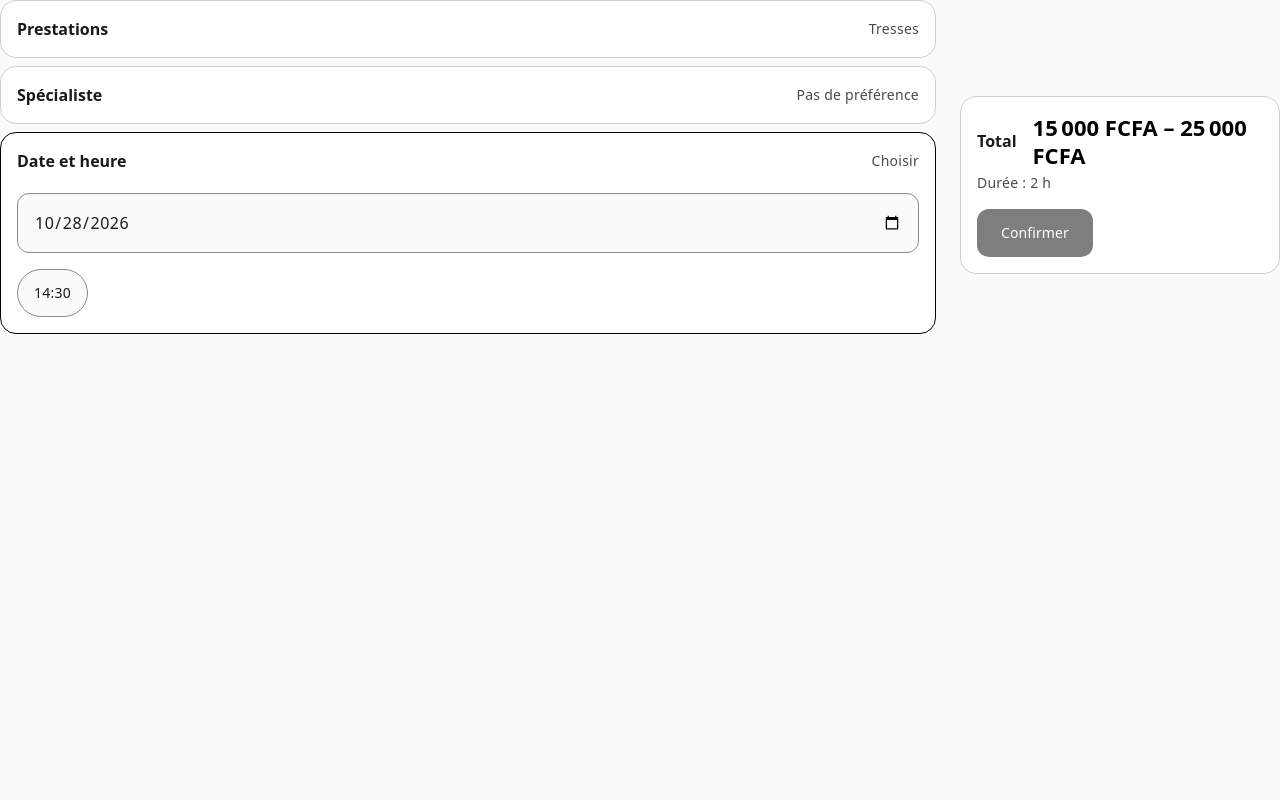
Test: « Réserver » — the contact phone at the confirm step › no number yet: asks for one, under the field — nothing is sent
The width and height of the screenshot is (1280, 800).
Click the button "14:30".
click(52, 293)  # box [17, 269, 88, 317]
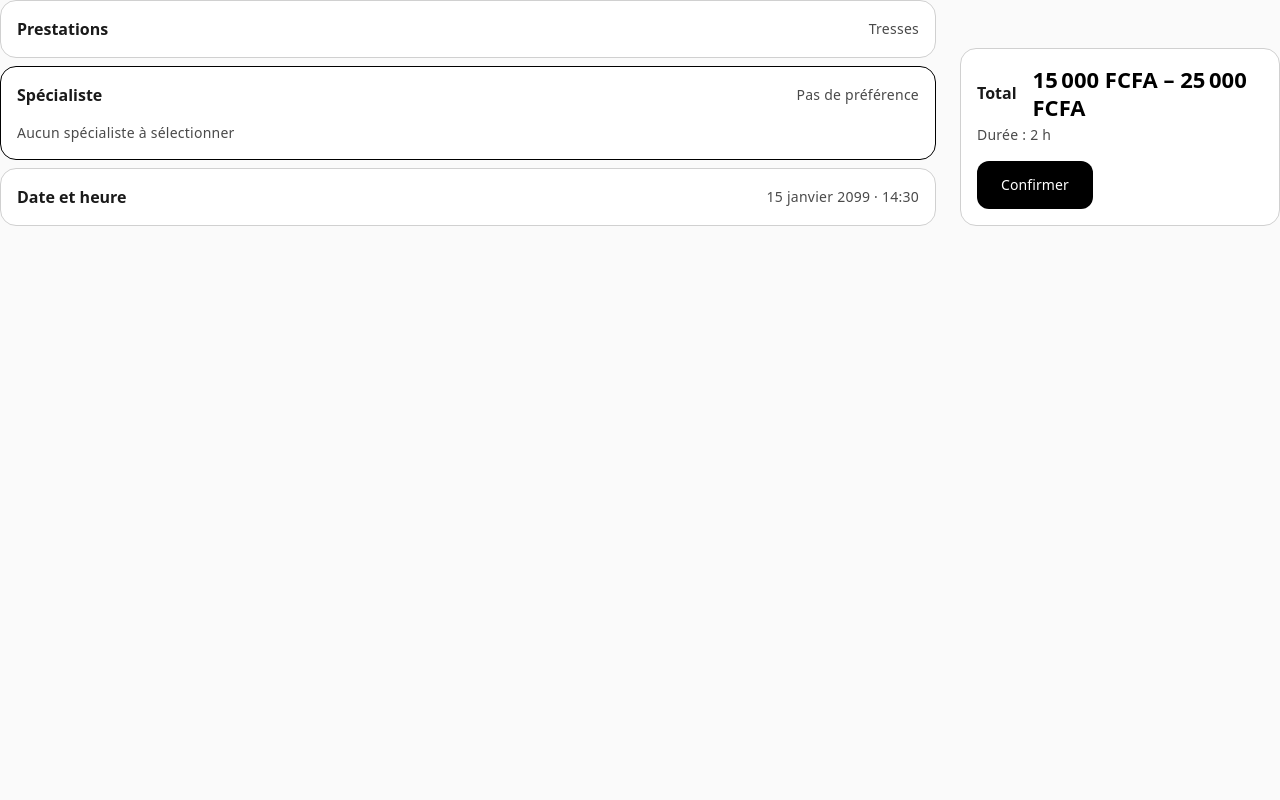
Click the button "Confirmer".
click(1035, 185)  # box [977, 161, 1093, 209]
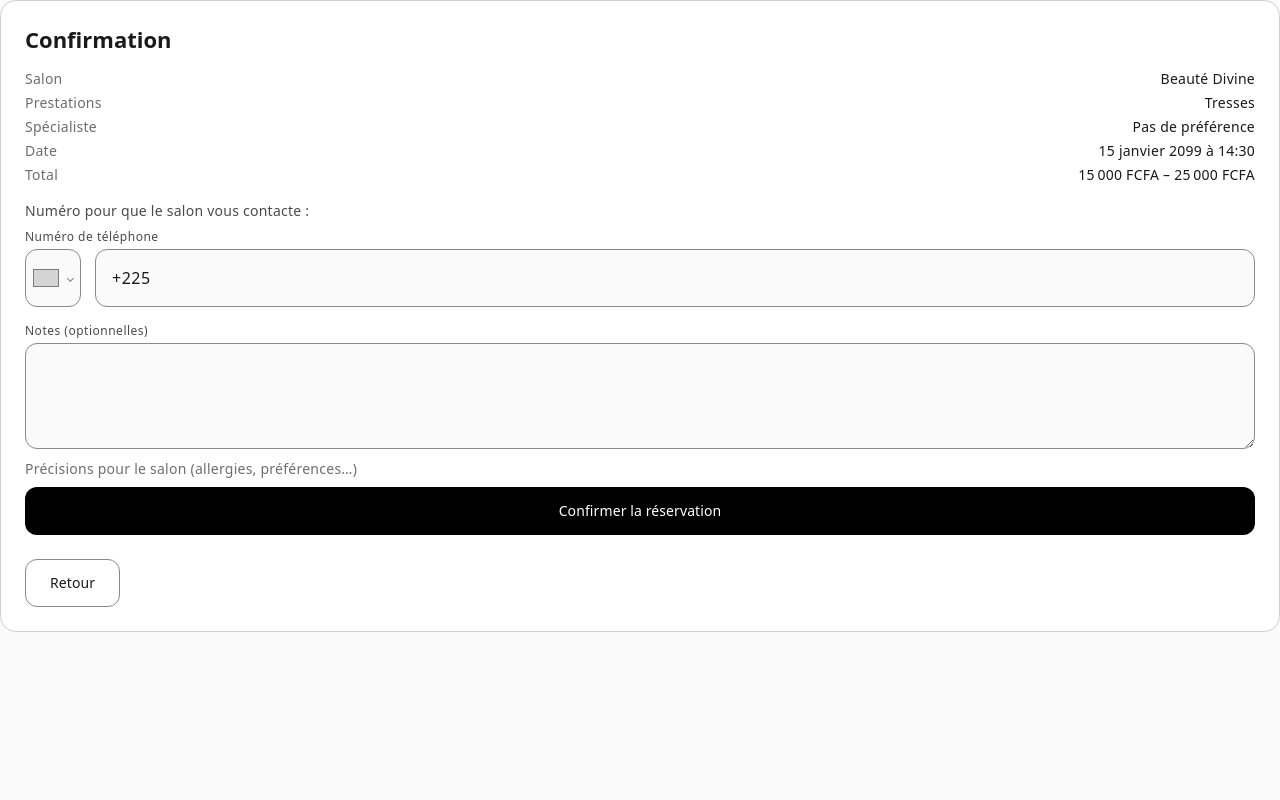
Check: the button "Confirmer la réservation" is enabled
Click the button "Confirmer la réservation".
click(640, 511)  # box [25, 487, 1255, 535]
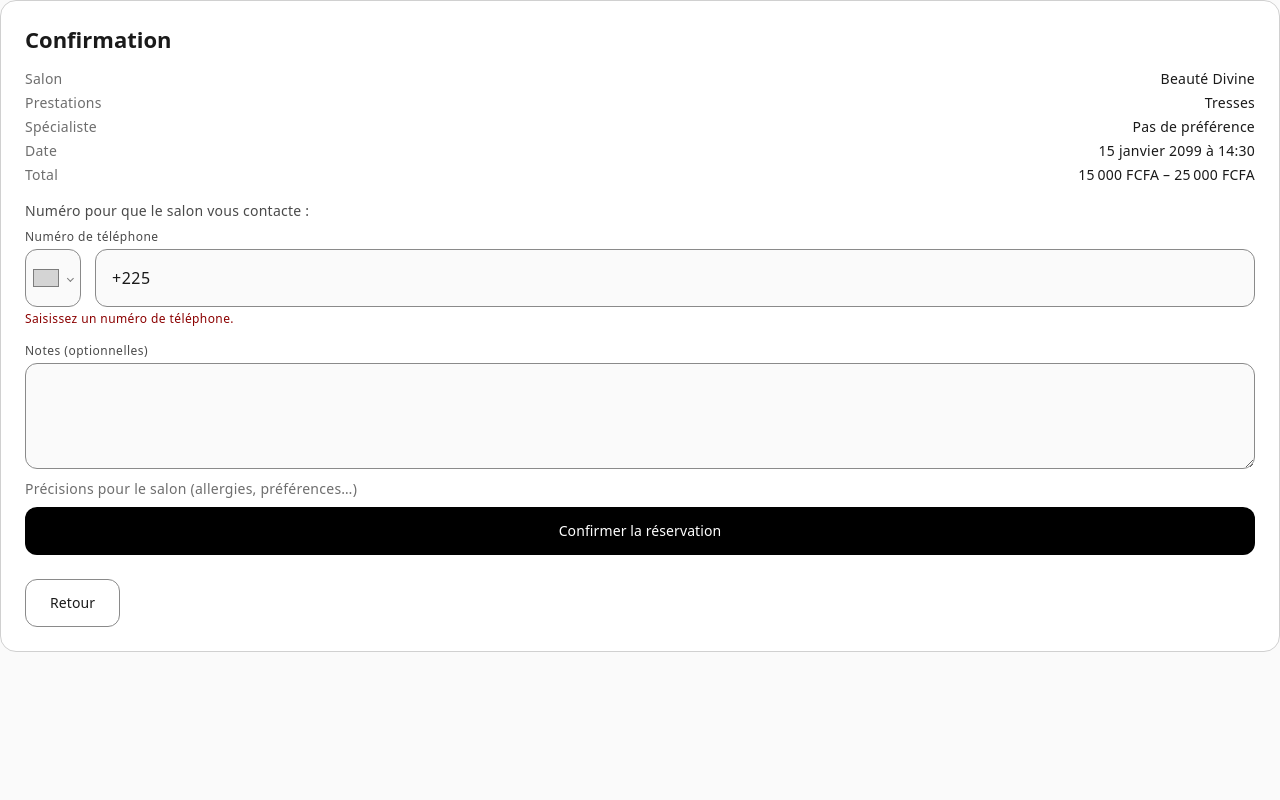
Check: the text "Saisissez un numéro de téléphone." is shown, box [25, 310, 234, 327]
